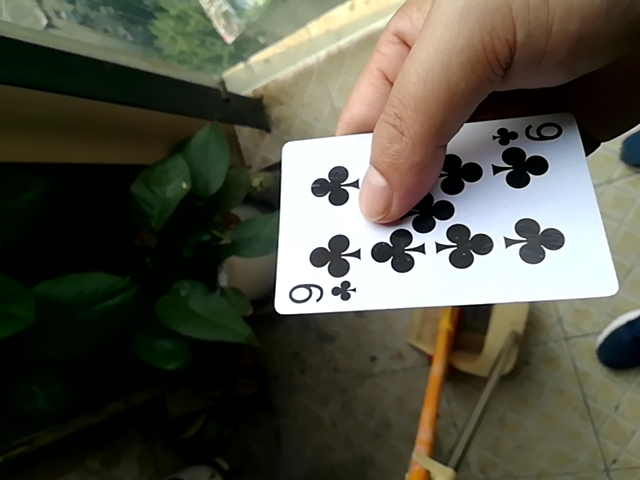mh 9: (267, 117, 621, 322)
